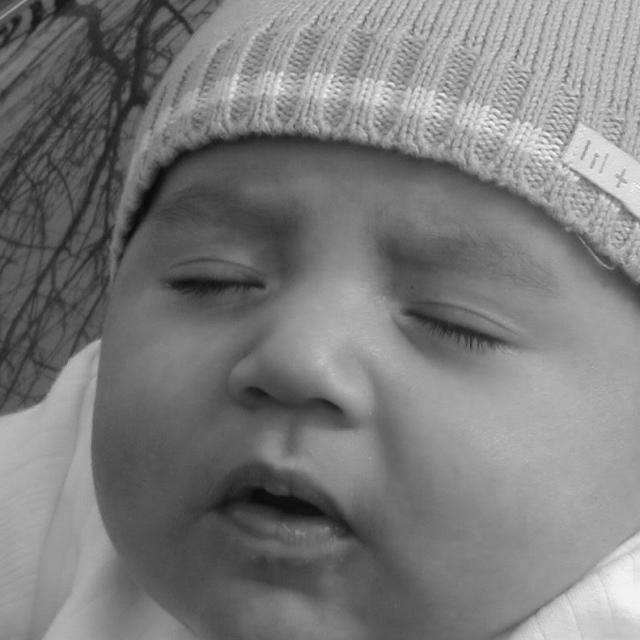real: (102, 180, 598, 632), (152, 218, 532, 370)
